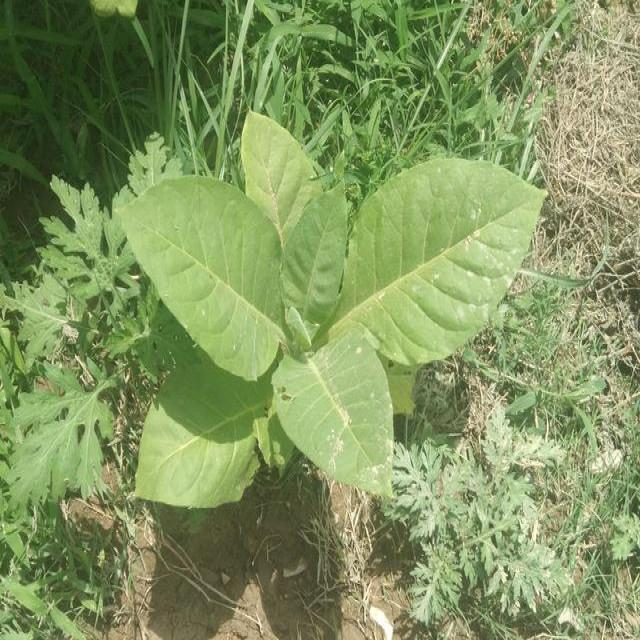crop: (123, 100, 545, 523)
